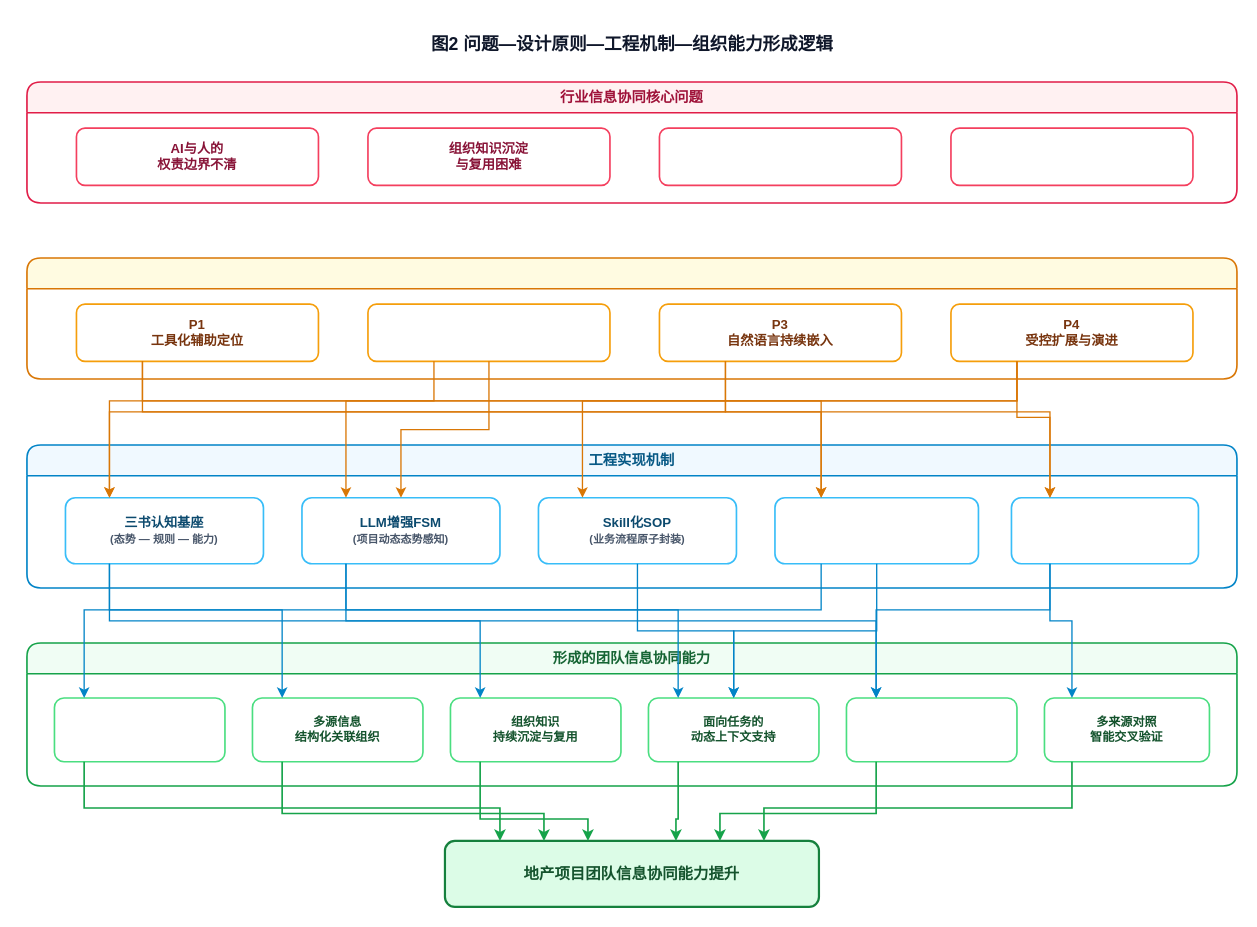
Image size: 1257x927. Some labels were removed from this diagram. Here are the shapes that lost their labels. From the top down, the box of each, then its label:
(658, 127, 902, 186): 过程信息采集 门槛高、易流失
(950, 127, 1193, 186): 项目场景多变 系统难以持续扩展
(367, 303, 610, 362): P2 团队级公共智能体
(26, 257, 1237, 379): 架构设计原则
(774, 496, 979, 564): 三智能体协作机制 (Session/WorkItem/Guardian)
(1010, 496, 1199, 564): 权限钩子与防护 (签名认证 / 全程留痕)
(53, 697, 225, 762): 过程信息 无感持续进入
(845, 697, 1017, 762): 跨部门事件链 还原与全景追溯
